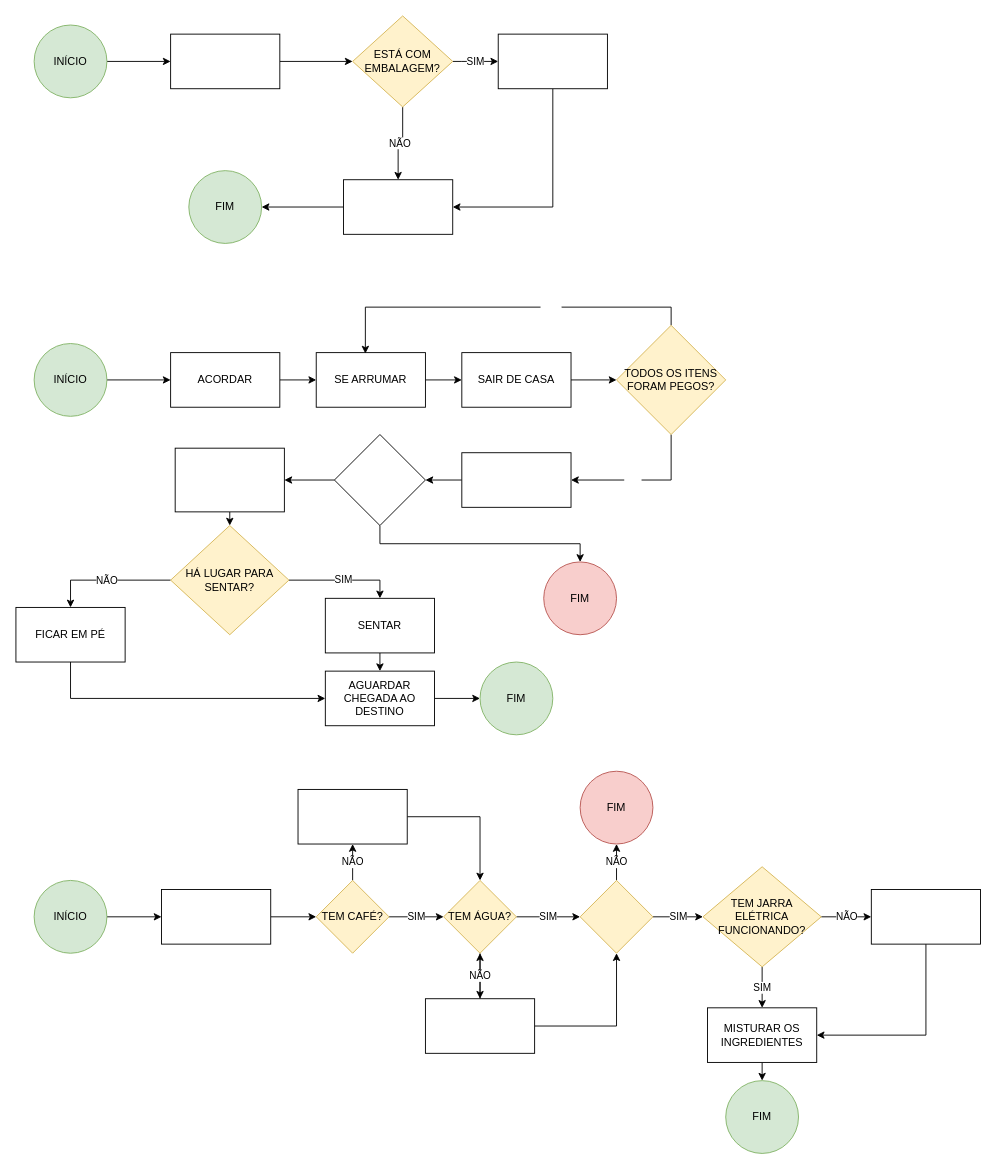
Image size: 996x1169. Some labels were removed from this diagram. Here are the shapes that lost their labels. From the top down, the centre of each, then its label:
At (x=225, y=61): "PEGAR O BOMBOM".
At (x=552, y=61): "TIRAR A EMBALAGEM".
At (x=398, y=206): "COMER O BOMBOM".
At (x=229, y=479): "SUBIR NO ÔNIBUS".
At (x=379, y=480): "ÔNIBUS NÃO CHEGOU?".
At (x=516, y=479): "AGUARDAR A CHEGADA DO ÔNIBUS".
At (x=352, y=816): "COMPRAR CAFÉ".
At (x=216, y=916): "PEGAR OS INGREDIENTES".
At (x=616, y=916): "TEM XÍCARA?".
At (x=925, y=916): "ESQUENTAR NO MICROONDAS".
At (x=480, y=1025): "COMPRAR ÁGUA".
